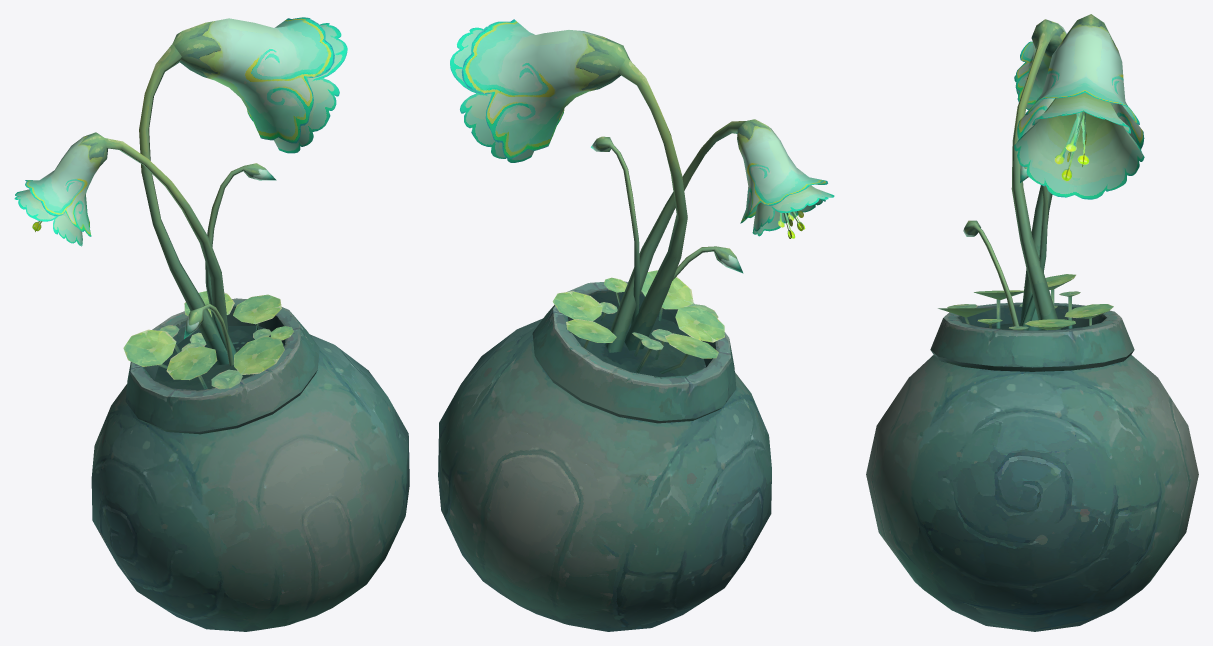
Rendered from Homeworld_Interior_Xm_Plant_Prop_GZFlowerpot_01_Vo.fbx.
3 renders of one model, left to right at view 1: azimuth 30°, elevation 25°; view 2: azimuth 150°, elevation 25°; view 3: azimuth 270°, elevation 25°, orthographic. The views are drawn at different scales.
Visible parts, largest first — view 1: Homeworld_Interior_Xm_Plant_Prop_GZFlowerpot_01_Vo; view 2: Homeworld_Interior_Xm_Plant_Prop_GZFlowerpot_01_Vo; view 3: Homeworld_Interior_Xm_Plant_Prop_GZFlowerpot_01_Vo.
Boxes of the visible parts, box(x1,y1,x2,y2) form: Homeworld_Interior_Xm_Plant_Prop_GZFlowerpot_01_Vo: box(14, 17, 409, 631); Homeworld_Interior_Xm_Plant_Prop_GZFlowerpot_01_Vo: box(438, 19, 834, 631); Homeworld_Interior_Xm_Plant_Prop_GZFlowerpot_01_Vo: box(866, 14, 1198, 631).
Size of the model in its own units: 0.6394 by 0.9448 by 0.5026.
2 materials, 2 textured.
